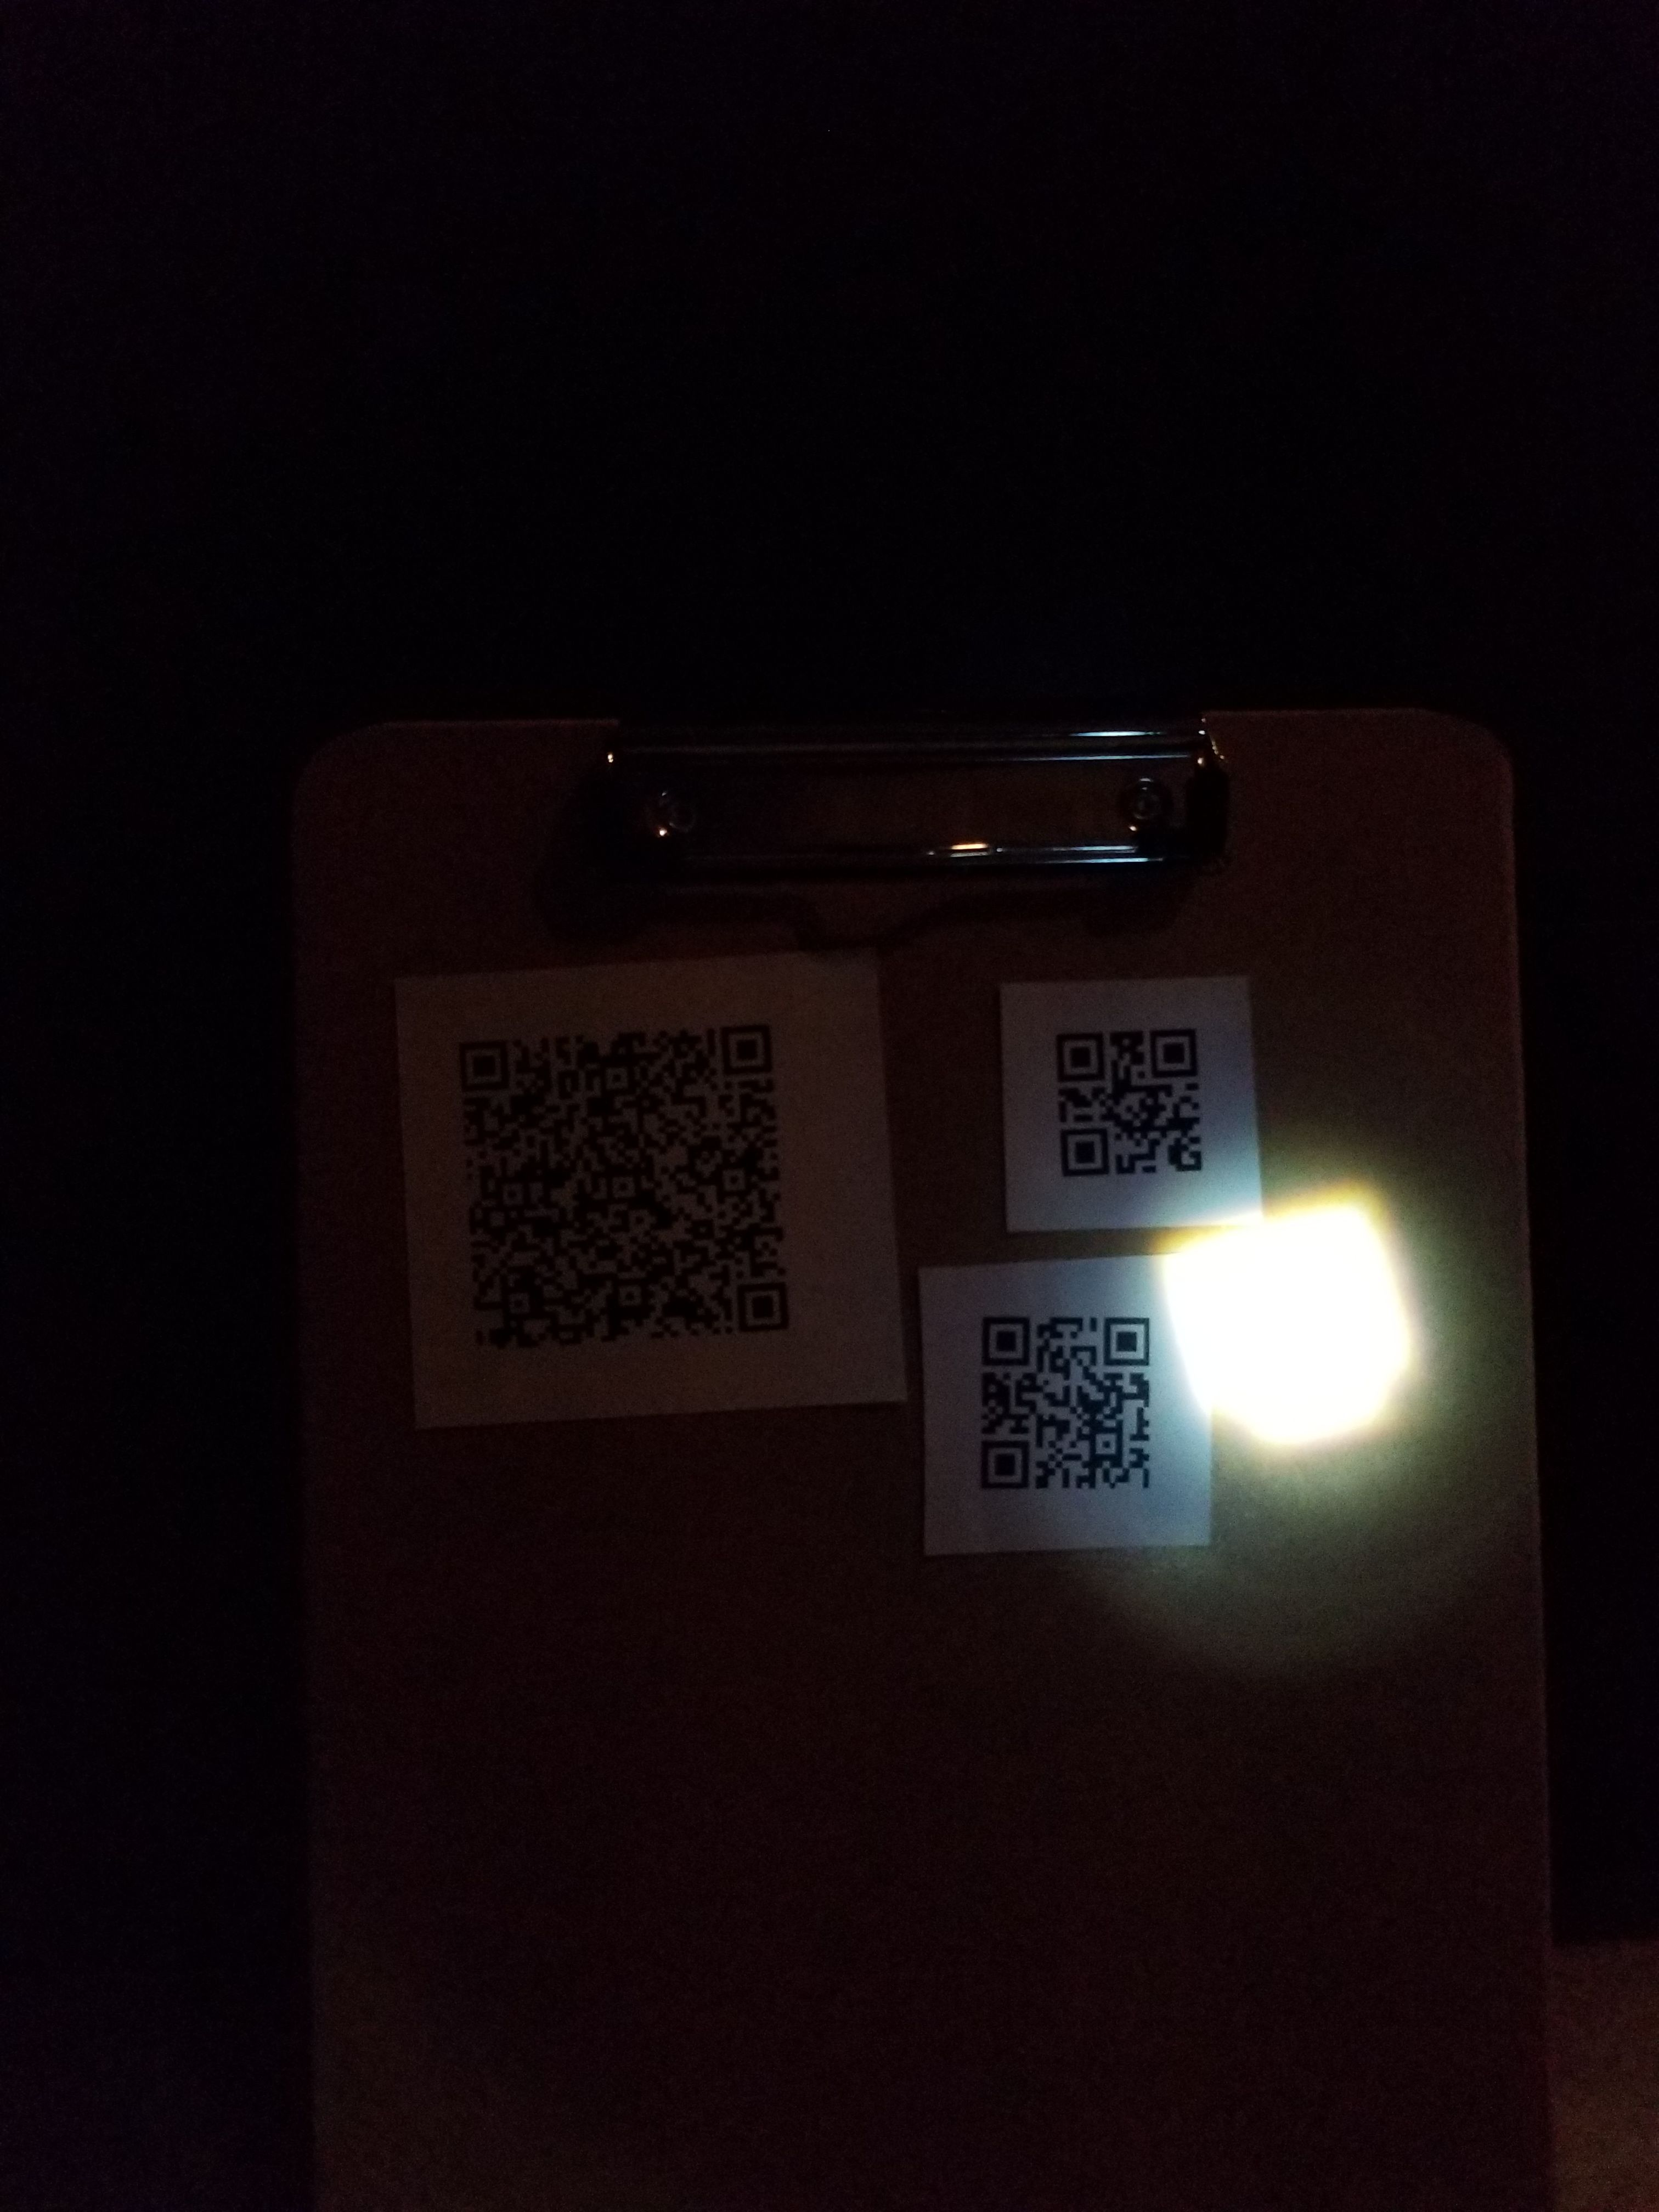QR_CODE: (434, 970, 807, 1395), (948, 1271, 1176, 1524), (1023, 991, 1239, 1202)
